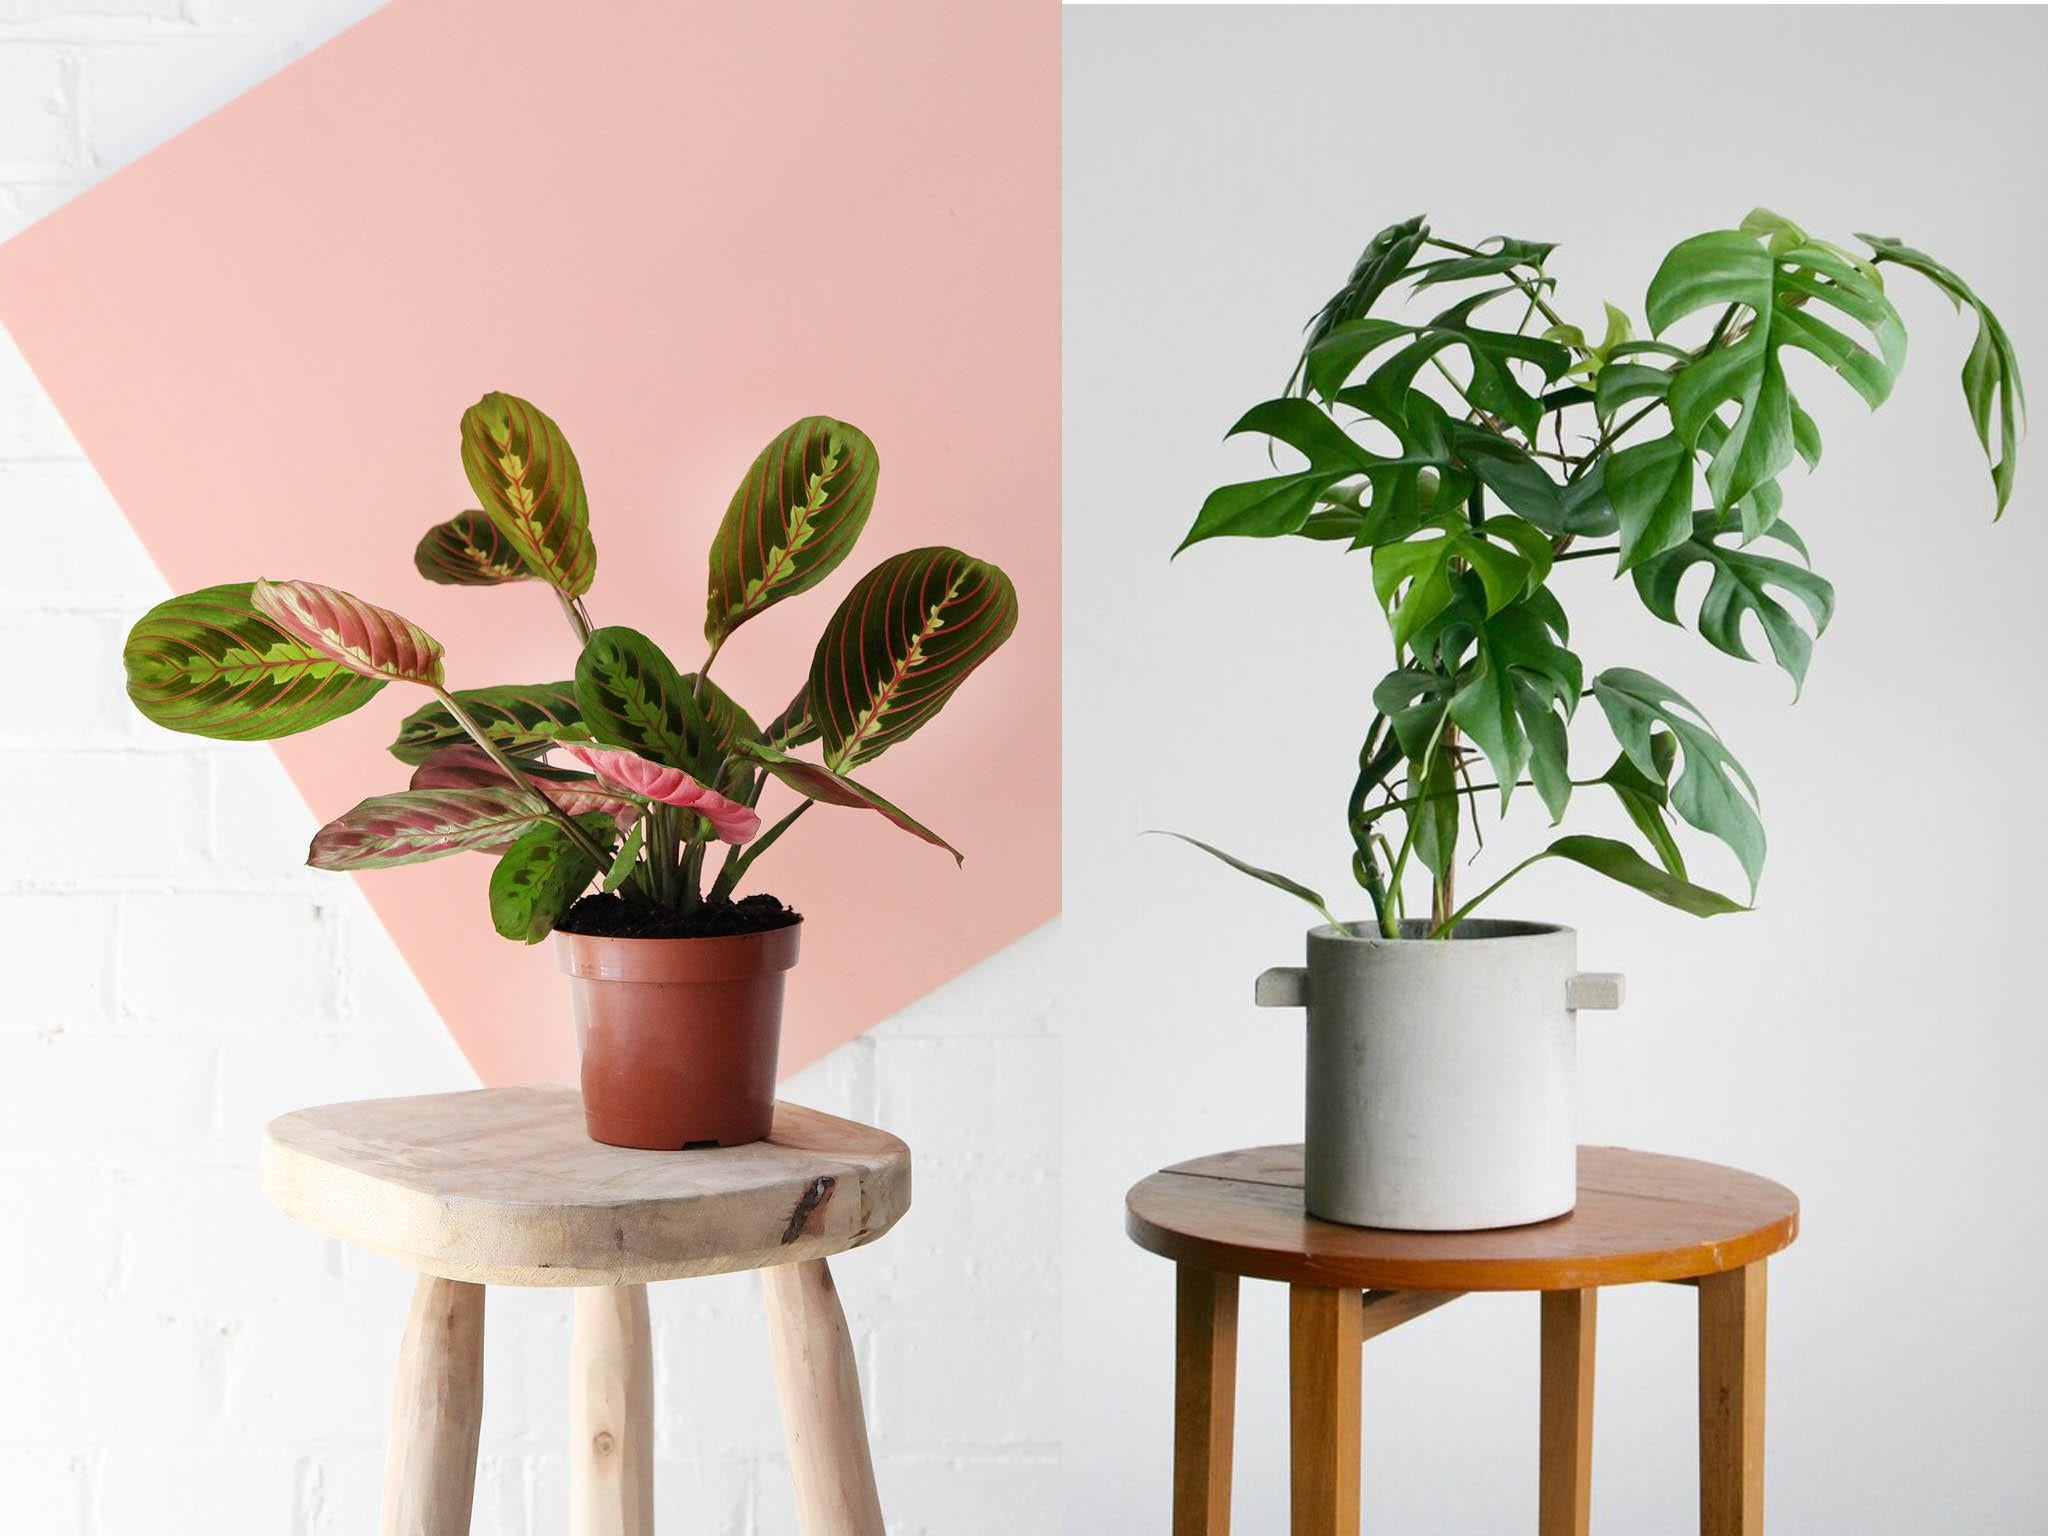plant: (1180, 207, 2021, 1042), (132, 389, 1029, 1039)
